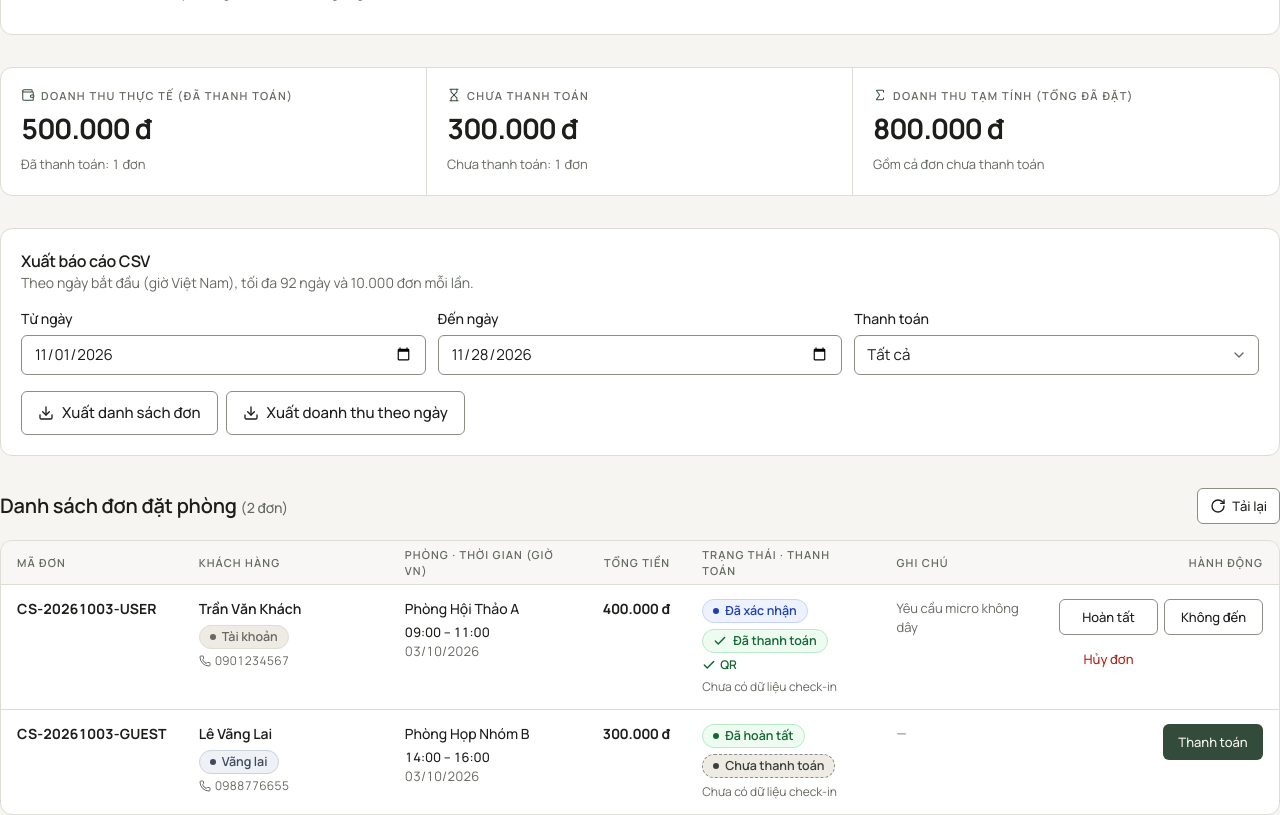
Test case: AdminBookingsPage - Booking Management & Search › Revenue KPI Summary and State Transition Actions (Complete / No-Show) › keeps the table and refreshes after completeBooking returns 409
(page scrolled)
What coordinates should you click on to do the following:
click the button with test id "complete-booking-btn-booking-1"
I would click on:
 (1108, 618)
Its box is [1059,600,1158,636].
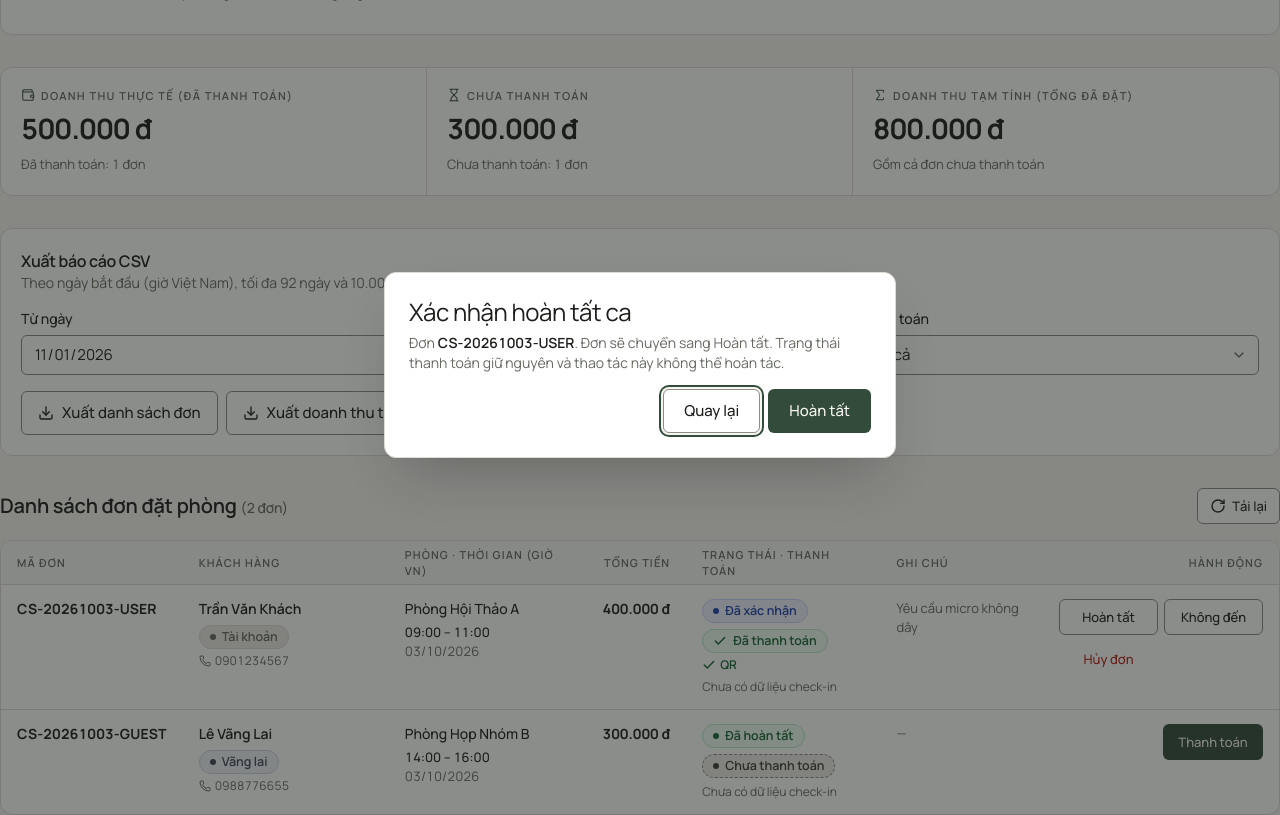
What coordinates should you click on to do the following:
click the button with test id "lifecycle-confirm-submit-btn"
I would click on:
 (820, 411)
Its box is [768,389,871,433].
(page scrolled)
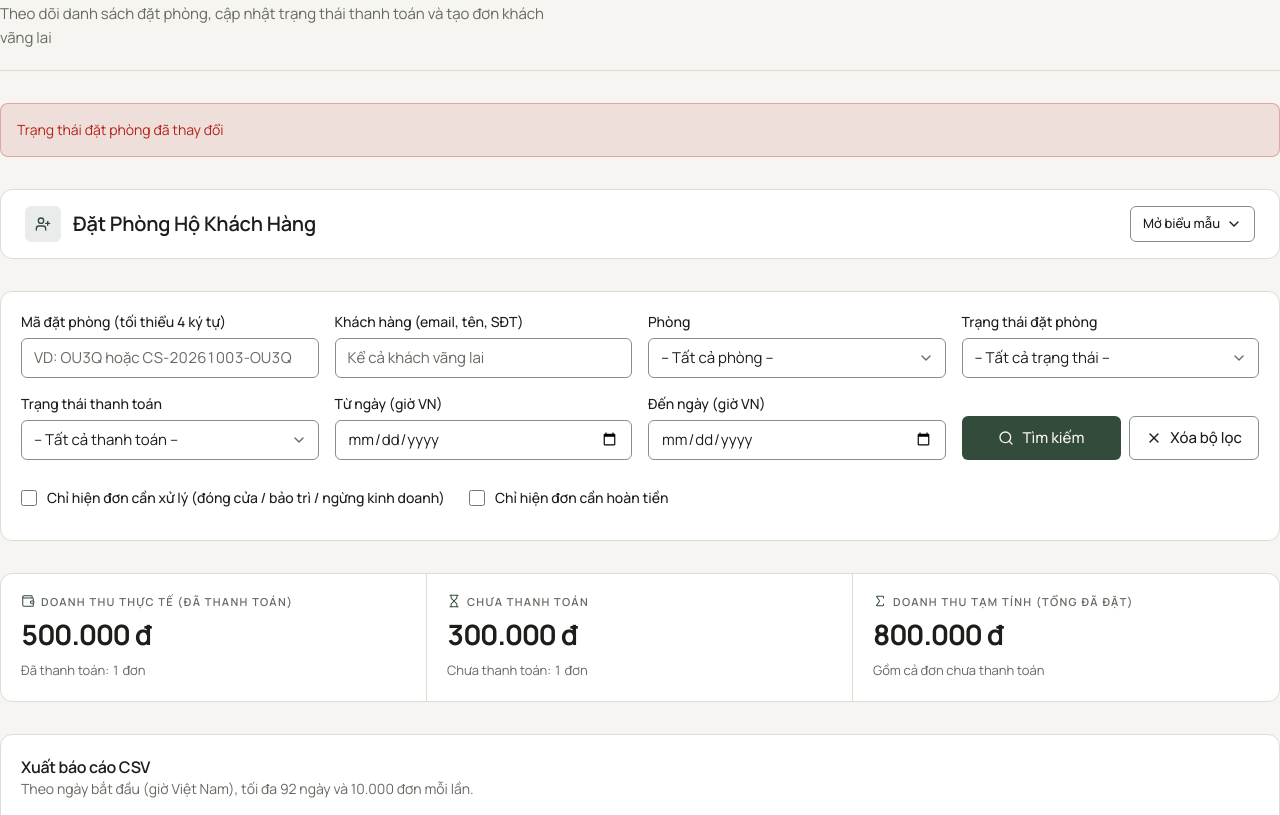
Check: the message reads "Trạng thái đặt phòng đã thay đổi", box [17,120,224,139]
Check: the button with test id "complete-booking-btn-booking-1" is gone
